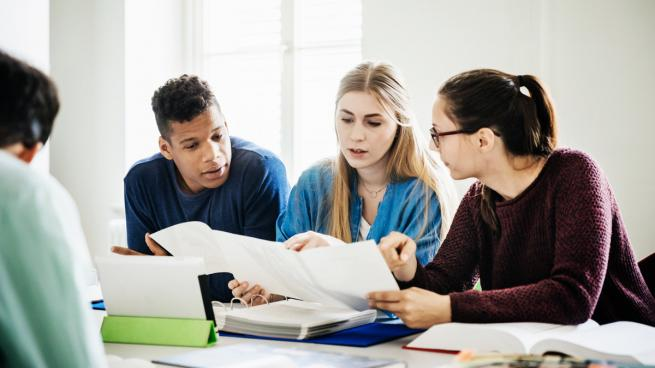Person: (415, 74, 655, 322), (292, 69, 435, 314), (117, 72, 290, 267)
